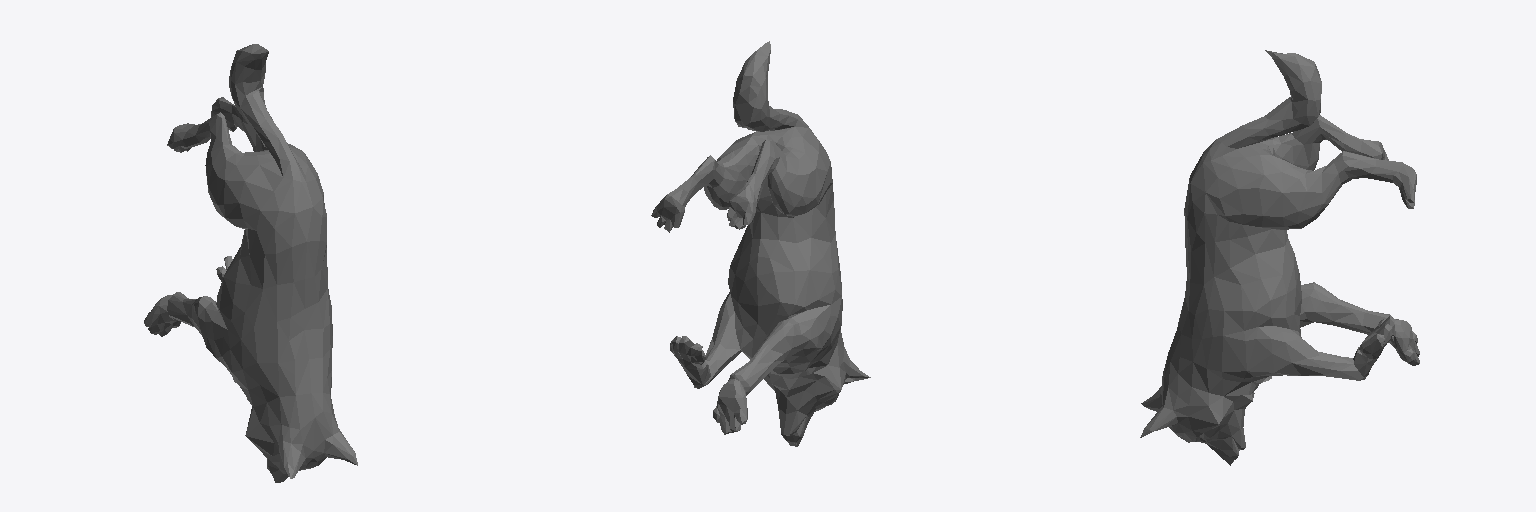
File: wolf.obj
3 renders of one model, left to right at view 1: azimuth 30°, elevation 25°; view 2: azimuth 150°, elevation 25°; view 3: azimuth 270°, elevation 25°, orthographic.
Bounding box in the file's own units: 589 × 2371 × 1444.